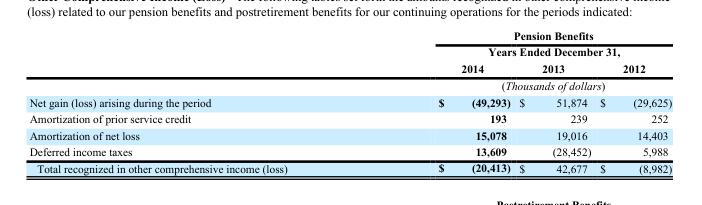table: (28, 28, 671, 174)
table column: (28, 28, 362, 174), (362, 28, 514, 174), (514, 28, 594, 174), (594, 28, 671, 174)
table column header: (28, 28, 671, 93)
table row: (28, 28, 671, 59), (28, 59, 671, 76), (28, 76, 671, 93), (28, 93, 671, 110), (28, 126, 671, 143), (28, 110, 671, 126), (28, 143, 671, 159), (28, 159, 671, 174)
table spanning cell: (362, 28, 671, 59), (362, 76, 671, 93)
